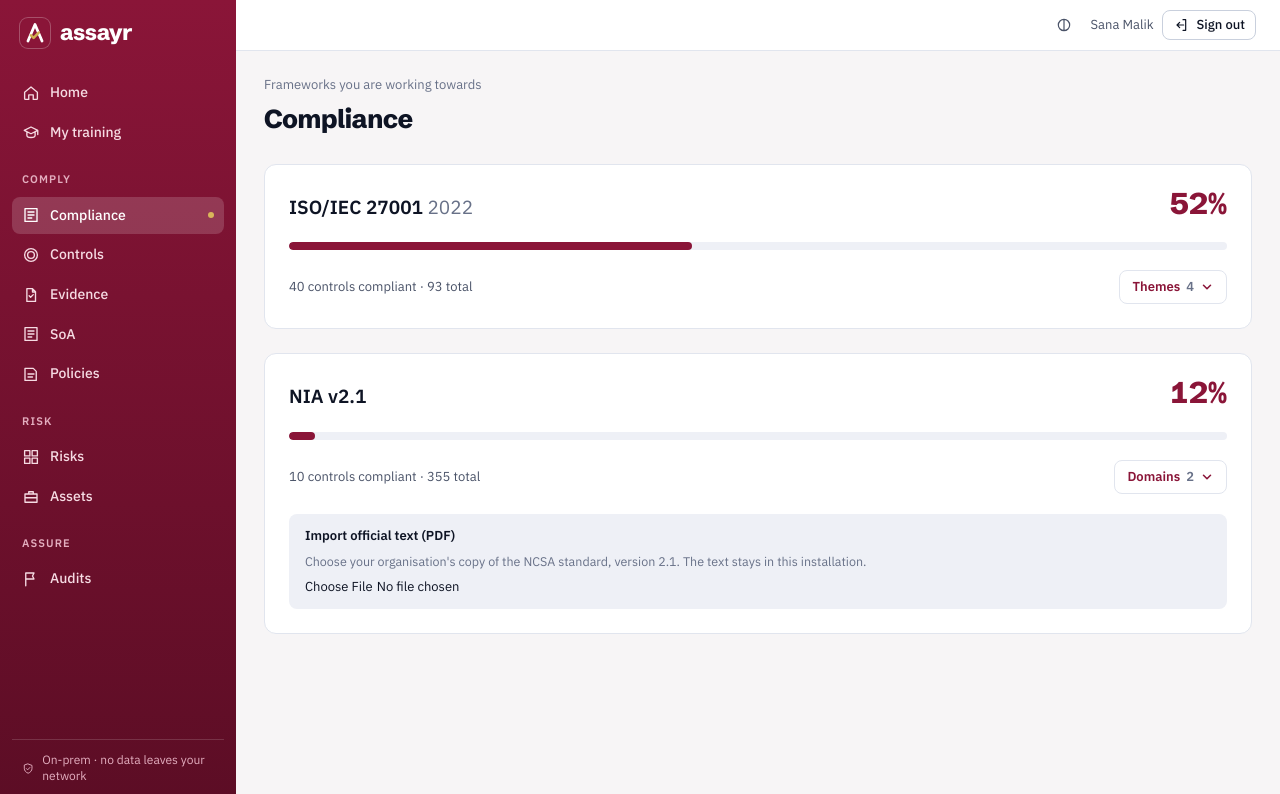
Test: ISO themes stay hidden until the Themes button is pressed
Check: the link "People" is not shown
Click the button "Themes 4".
click(1173, 287)  # box x1=1120 y1=270 x2=1227 y2=304
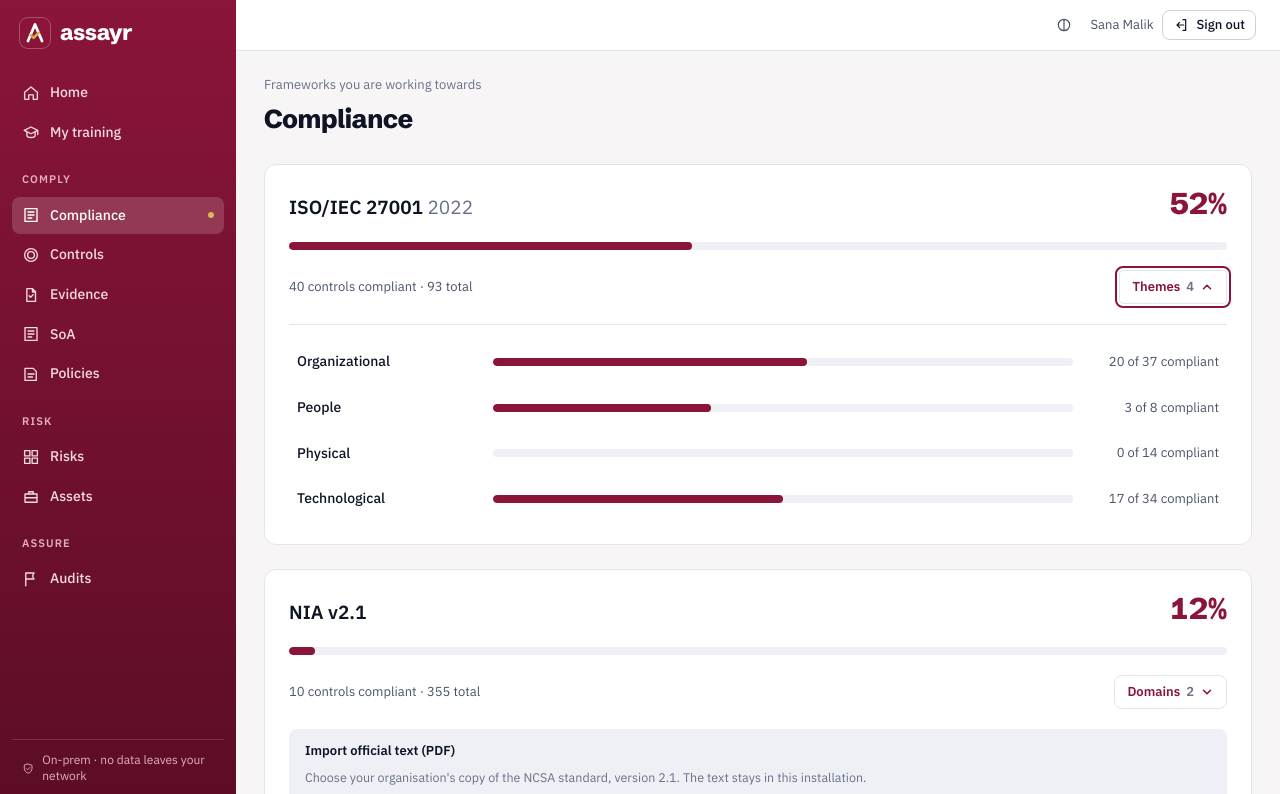
Check: the button "Themes 4" is expanded, box x1=1120 y1=270 x2=1227 y2=304
Check: the link "People 3 of 8 compliant" is shown, box x1=297 y1=398 x2=1219 y2=416
